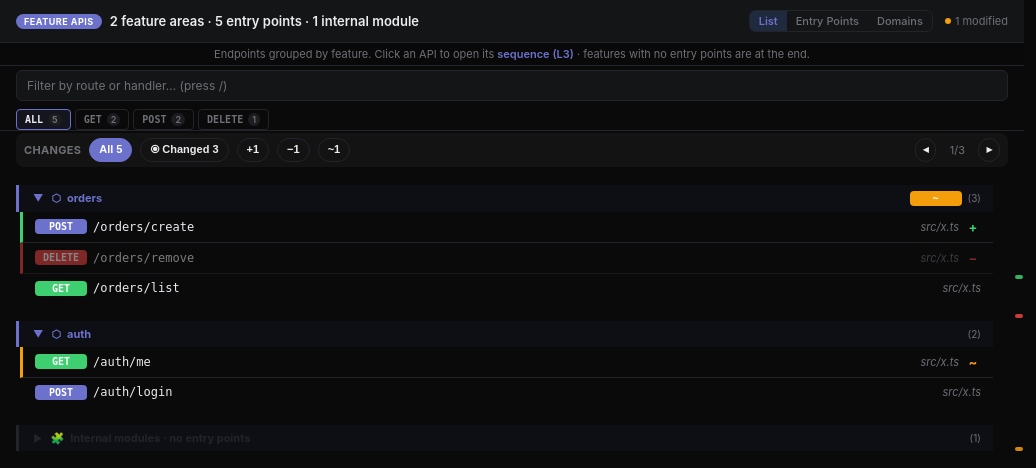
Test: search + method filtering (L2b parity) › shows a no-match hint when nothing matches
Type "zzzznope" into the field with test id "feature-api-search".
click(512, 86); type("zzzznope")  # box [16,70,1008,101]
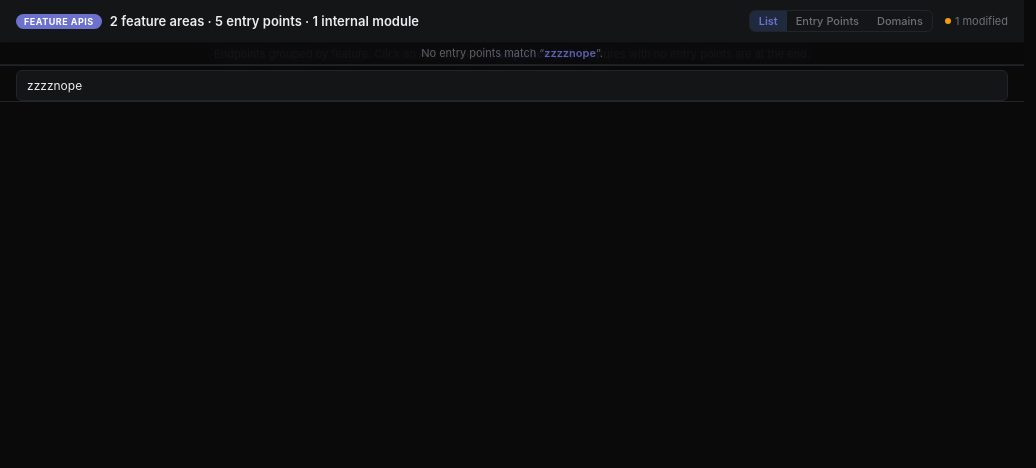
Now the button "/orders/create" is gone
